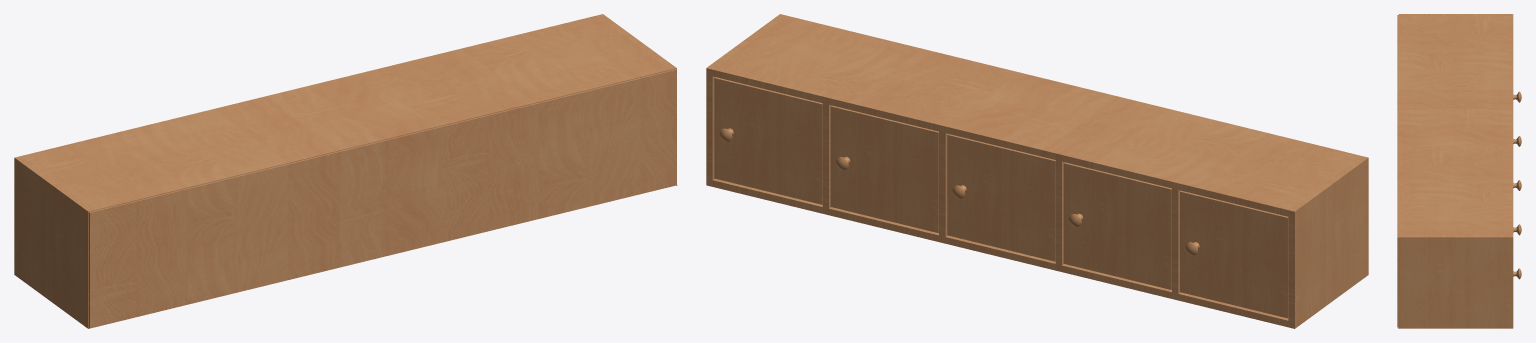
File: antresol_k_shkafu_5_sektsionnaja.glb
The picture shows the model from 3 angles, left to right: view 1: azimuth 30°, elevation 25°; view 2: azimuth 150°, elevation 25°; view 3: azimuth 270°, elevation 25°; orthographic projection. The views are drawn at different scales.
Visible parts, largest first — view 1: Shape_IndexedFaceSet.016_NON, Shape_IndexedFaceSet.013, Shape_IndexedFaceSet.011, Shape_IndexedFaceSet.010; view 2: Shape_IndexedFaceSet.013, Shape_IndexedFaceSet, Shape_IndexedFaceSet.008, Shape_IndexedFaceSet.002, Shape_IndexedFaceSet.004, Shape_IndexedFaceSet.006, Shape_IndexedFaceSet.011, Shape_IndexedFaceSet.012, Shape_IndexedFaceSet.010, Shape_IndexedFaceSet.014, Shape_IndexedFaceSet.017, Shape_IndexedFaceSet.015 (+1 smaller); view 3: Shape_IndexedFaceSet.013, Shape_IndexedFaceSet.010, Shape_IndexedFaceSet.016_NON, Shape_IndexedFaceSet.011.
Part boxes in pixels (x1,y1,x2,y2): Shape_IndexedFaceSet.016_NON: [89, 69, 676, 328]; Shape_IndexedFaceSet.013: [21, 15, 670, 210]; Shape_IndexedFaceSet.011: [14, 156, 94, 328]; Shape_IndexedFaceSet.010: [597, 14, 676, 70]; Shape_IndexedFaceSet.013: [712, 15, 1361, 216]; Shape_IndexedFaceSet: [947, 134, 1055, 261]; Shape_IndexedFaceSet.008: [1180, 191, 1288, 318]; Shape_IndexedFaceSet.002: [714, 77, 822, 204]; Shape_IndexedFaceSet.004: [830, 105, 938, 233]; Shape_IndexedFaceSet.006: [1063, 162, 1171, 289]; Shape_IndexedFaceSet.011: [1288, 156, 1368, 328]; Shape_IndexedFaceSet.012: [712, 178, 1288, 327]; Shape_IndexedFaceSet.010: [706, 14, 786, 186]; Shape_IndexedFaceSet.014: [822, 103, 831, 208]; Shape_IndexedFaceSet.017: [1055, 160, 1064, 265]; Shape_IndexedFaceSet.015: [939, 131, 947, 236]; Shape_IndexedFaceSet.013: [1398, 16, 1513, 234]; Shape_IndexedFaceSet.010: [1398, 235, 1513, 328]; Shape_IndexedFaceSet.016_NON: [1397, 15, 1398, 327]; Shape_IndexedFaceSet.011: [1398, 14, 1513, 16].
Bounding box in the file's own units: 1472 × 281 × 347.
20 materials, 19 textured.
